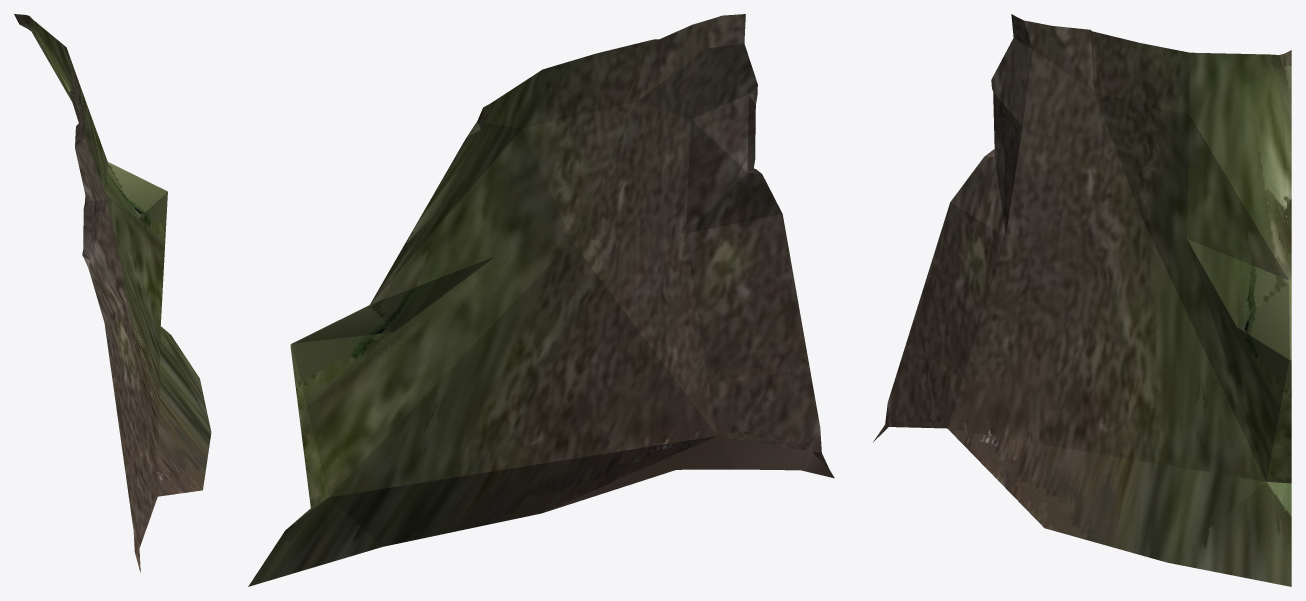
3 views of the same model, side by side, from view 1: azimuth 30°, elevation 25°; view 2: azimuth 150°, elevation 25°; view 3: azimuth 270°, elevation 25° (orthographic). The views are drawn at different scales.
Size of the model in its own units: 1.92 by 2.95 by 2.6.
3 materials, 3 textured.
